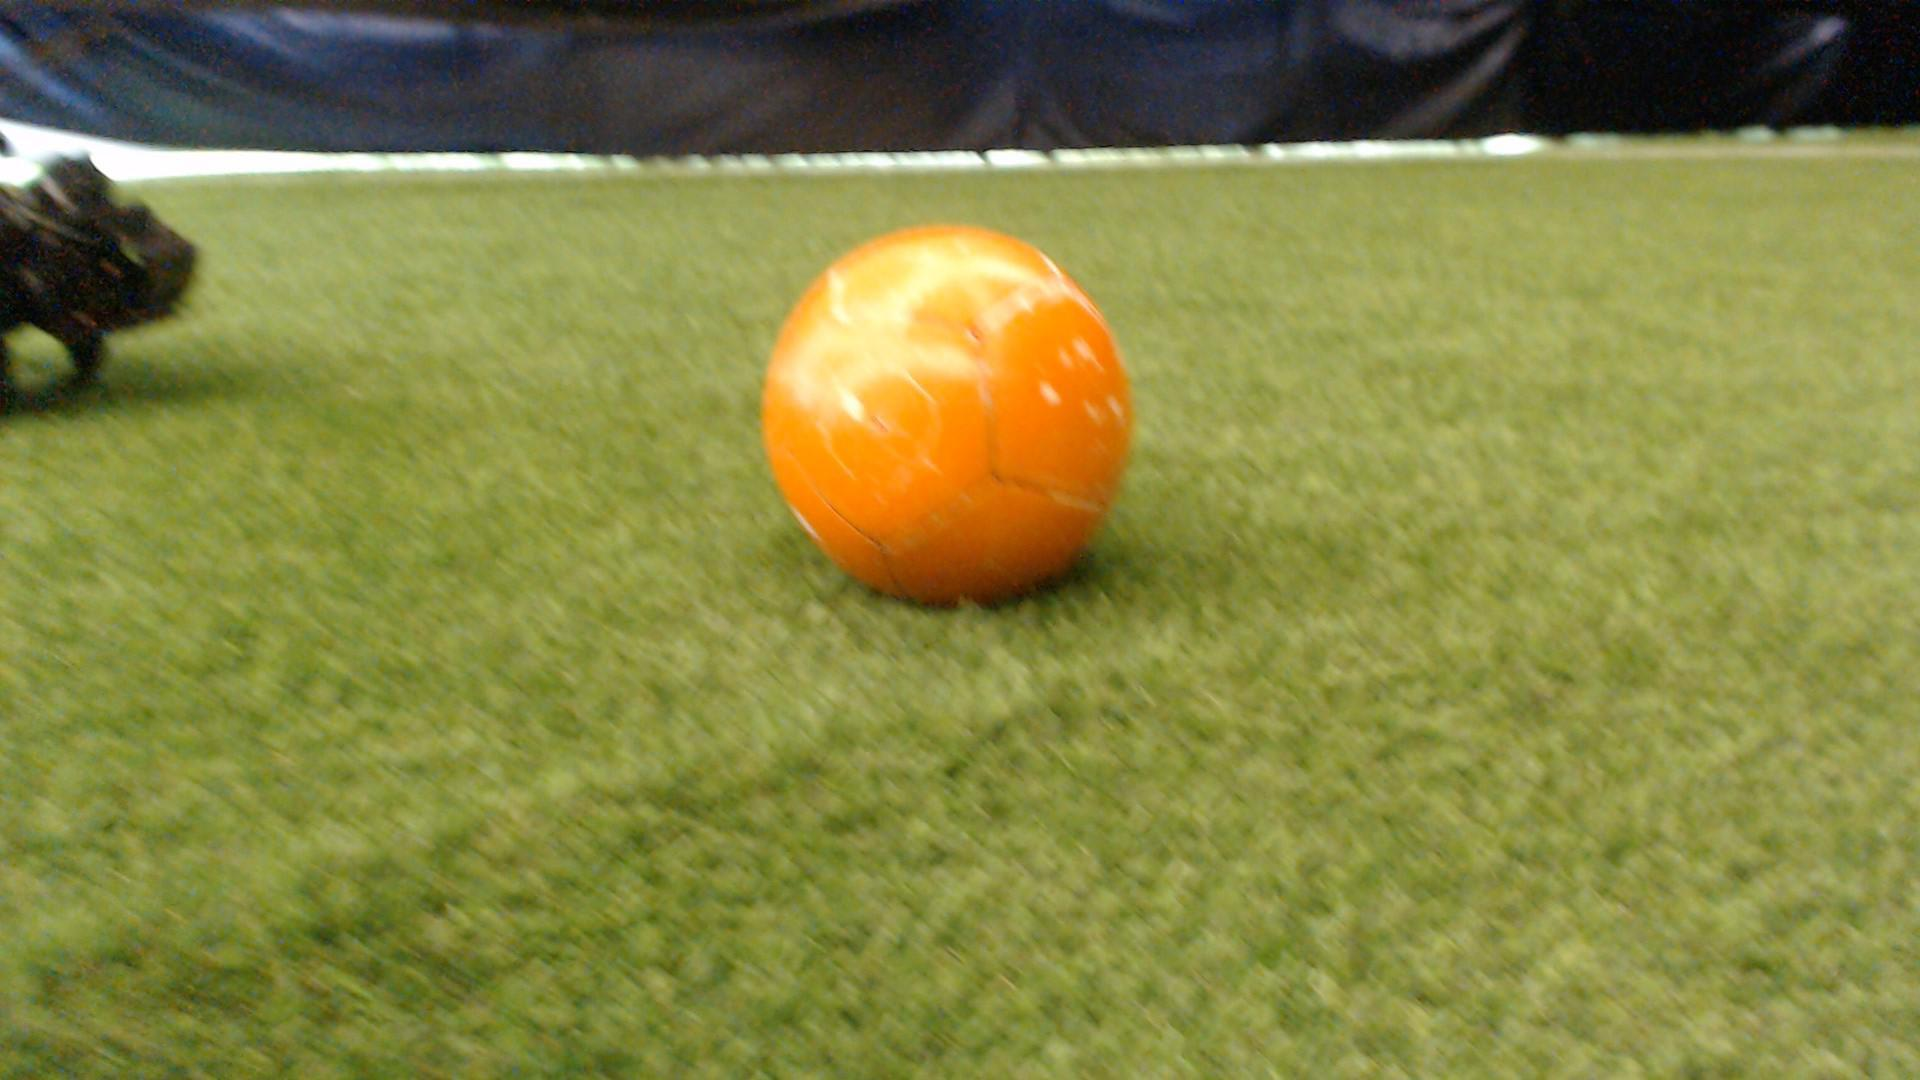bola: (724, 208, 1192, 628)
